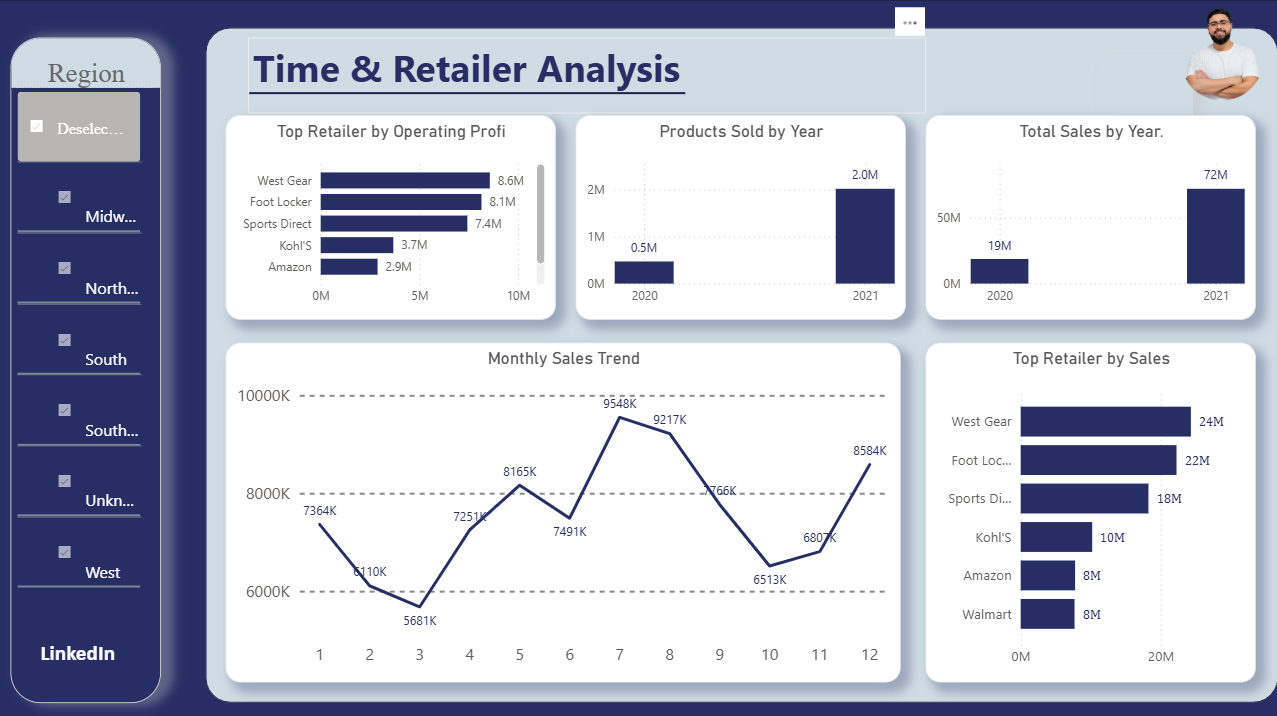

The page's visual inventory and layout, read from the dashboard file:
{"tool":"powerbi","page":{"name":"Time & Retailer Analysis","canvas":[1280,720],"ordinal":1},"visuals":[{"type":"shape","box":[0,0,1280,720],"z":0},{"type":"shape","box":[207.8,27.3,1072.7,675.3],"z":1000},{"type":"clusteredBarChart","title":"Top Retailer by Sales","fields":{"Category":["cleaned_retail_sales.Retailer"],"Y":["Sum(cleaned_retail_sales.Total Sales)"]},"box":[927.5,342.5,330,340],"z":3000},{"type":"lineChart","title":"Monthly Sales Trend","fields":{"Category":["cleaned_retail_sales.month"],"Y":["Sum(cleaned_retail_sales.Total Sales)"]},"box":[227.5,342.5,675,340],"z":4000},{"type":"clusteredBarChart","title":"Top Retailer by Operating Profi","fields":{"Category":["cleaned_retail_sales.Retailer"],"Y":["Sum(cleaned_retail_sales.Operating Profit)"]},"box":[227.5,115,330,205],"z":5000},{"type":"clusteredColumnChart","title":"Products Sold by Year","fields":{"Category":["cleaned_retail_sales.year"],"Y":["Sum(cleaned_retail_sales.Units Sold)"]},"box":[577.5,115.5,330,205],"z":8000},{"type":"advancedSlicerVisual","title":"Region","fields":{"Values":["cleaned_retail_sales.Region"]},"box":[12,37.5,150,665.3],"z":10000},{"type":"textbox","box":[250,38,678,76],"z":11000},{"type":"shape","box":[251.2,85,436.2,16.2],"z":12000},{"type":"image","box":[1169.2,9,110.6,92.5],"z":13000},{"type":"textbox","box":[1098.7,55.1,96.2,60.3],"z":14000},{"type":"textbox","box":[37.5,635,93.8,47.5],"z":15000},{"type":"clusteredColumnChart","title":"Total Sales by Year.","fields":{"Category":["cleaned_retail_sales.year"],"Y":["Sum(cleaned_retail_sales.Total Sales)"]},"box":[927.5,115,330,205],"z":15001}]}

Visuals, with their boxes in screenshot pixels (x1, y1, x2, y2), scaled from the page's 1280x720 canvas onto the 1277x716 screenshot:
shape: bbox=(0, 0, 1276, 715)
shape: bbox=(207, 27, 1276, 699)
"Top Retailer by Sales" clusteredBarChart: bbox=(925, 341, 1255, 679)
"Monthly Sales Trend" lineChart: bbox=(227, 341, 900, 679)
"Top Retailer by Operating Profi" clusteredBarChart: bbox=(227, 114, 556, 318)
"Products Sold by Year" clusteredColumnChart: bbox=(576, 115, 905, 319)
"Region" advancedSlicerVisual: bbox=(12, 37, 162, 699)
textbox: bbox=(249, 38, 926, 113)
shape: bbox=(251, 85, 686, 101)
image: bbox=(1166, 9, 1276, 101)
textbox: bbox=(1096, 55, 1192, 115)
textbox: bbox=(37, 631, 131, 679)
"Total Sales by Year." clusteredColumnChart: bbox=(925, 114, 1255, 318)
